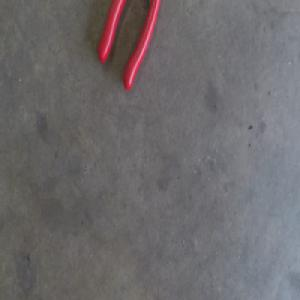Pliers: (98, 0, 161, 92)
